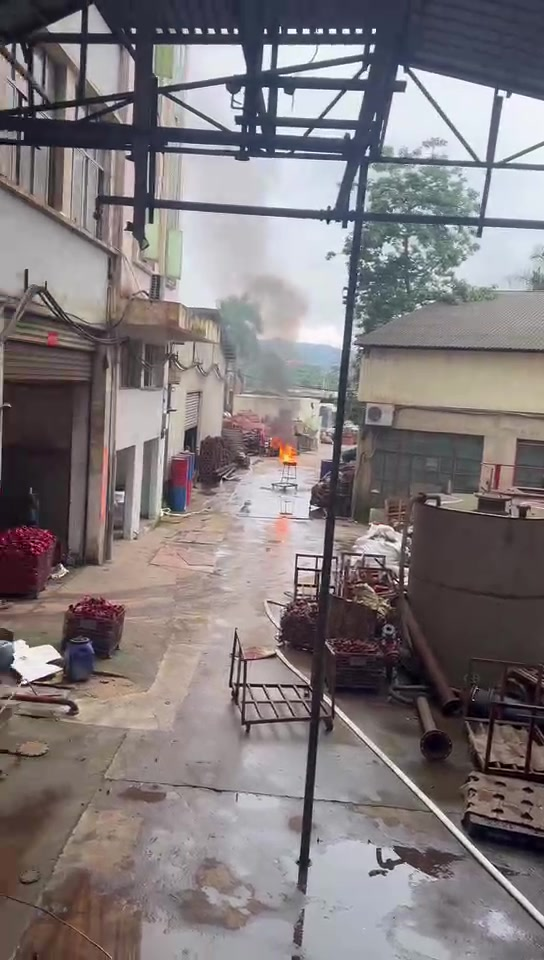fire: (274, 438, 295, 462)
